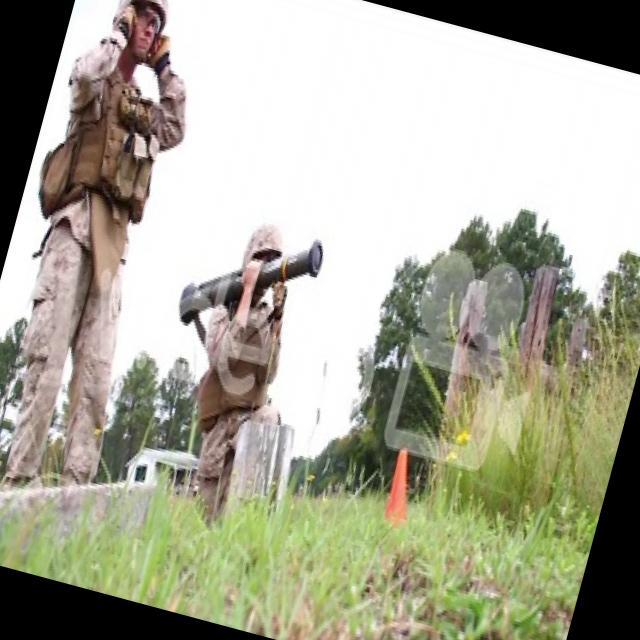rocket: (170, 211, 322, 362)
